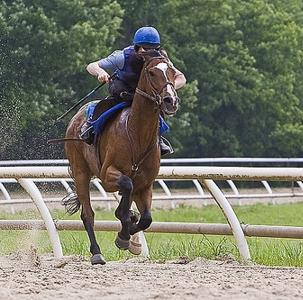person: (79, 27, 187, 159)
